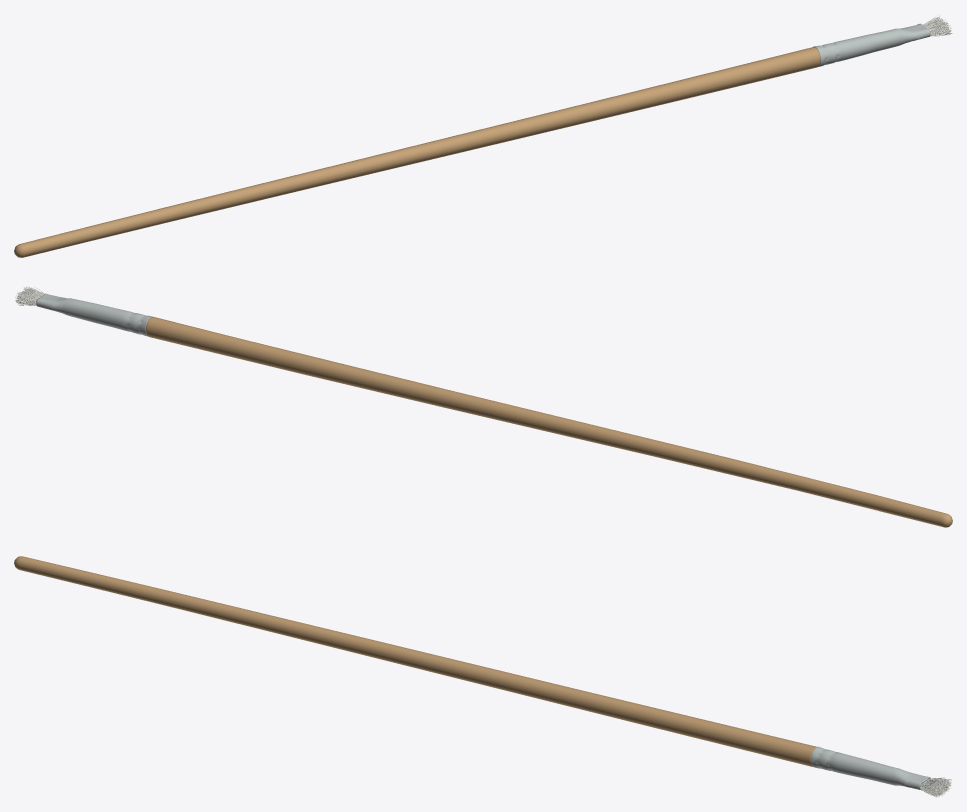
The model's file is paint_supplies_brush_a05.glb.
3 views of the same model, one above another, from view 1: azimuth 30°, elevation 25°; view 2: azimuth 150°, elevation 25°; view 3: azimuth 330°, elevation 25° (orthographic).
Bounding box in the file's own units: 0.2832 × 0.00557 × 0.00854.
